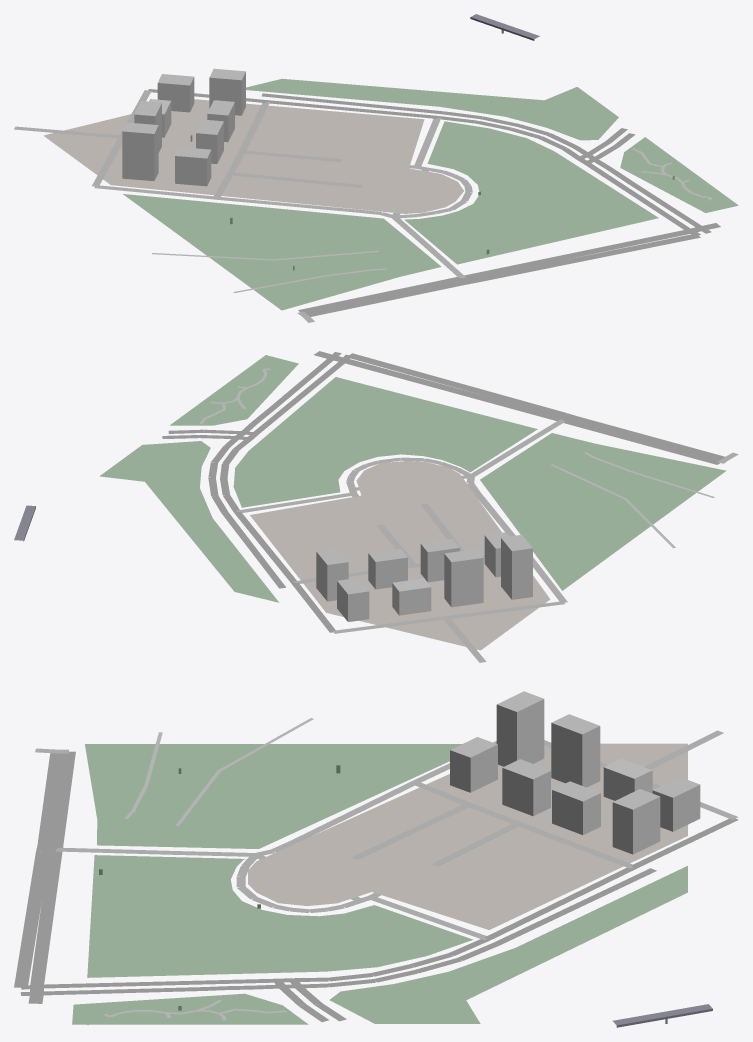
3 views of the same model, one above another, from view 1: azimuth 30°, elevation 25°; view 2: azimuth 150°, elevation 25°; view 3: azimuth 270°, elevation 25° (orthographic). The views are drawn at different scales.
Bounding box in the file's own units: 563 × 53.64 × 549.
